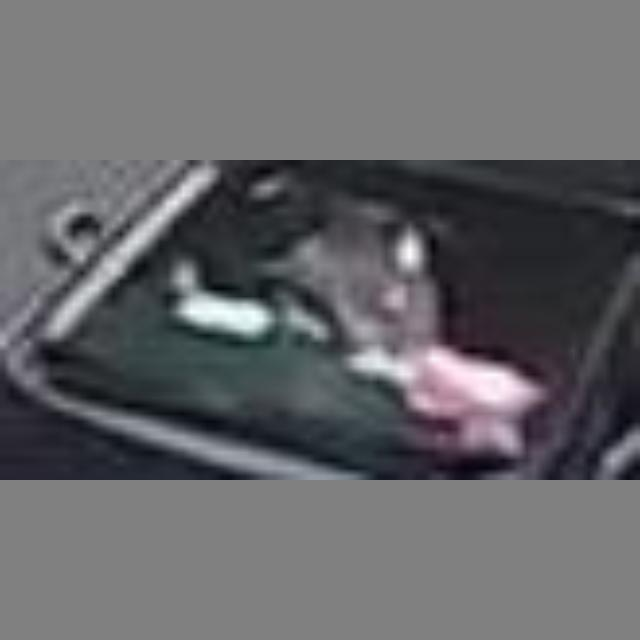tidak-pakai: (273, 191, 445, 363)
